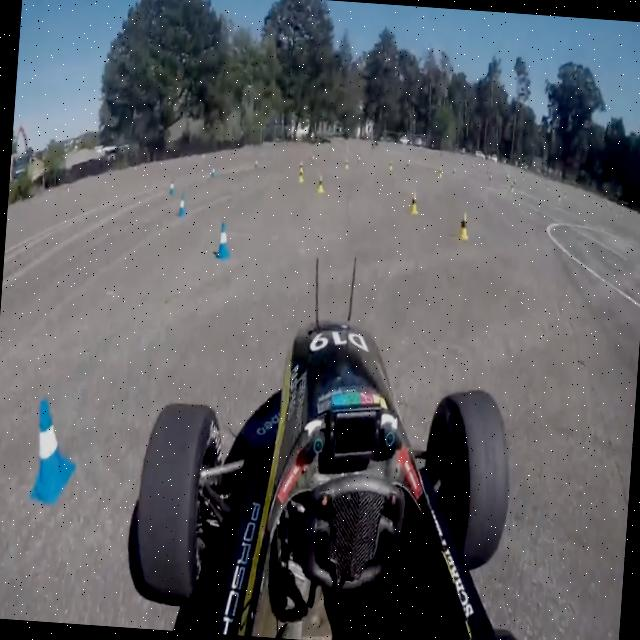blue_cone: (30, 380, 75, 510), (212, 218, 231, 261), (176, 195, 186, 218), (167, 180, 175, 197), (209, 167, 215, 180)
yellow_cone: (456, 205, 472, 242), (408, 188, 420, 216), (296, 158, 304, 176), (317, 176, 325, 193), (296, 168, 304, 185), (343, 158, 349, 172), (438, 166, 443, 179), (388, 158, 392, 171)
